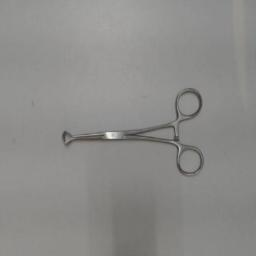Babcock Tissue Forceps: (58, 84, 206, 178)
